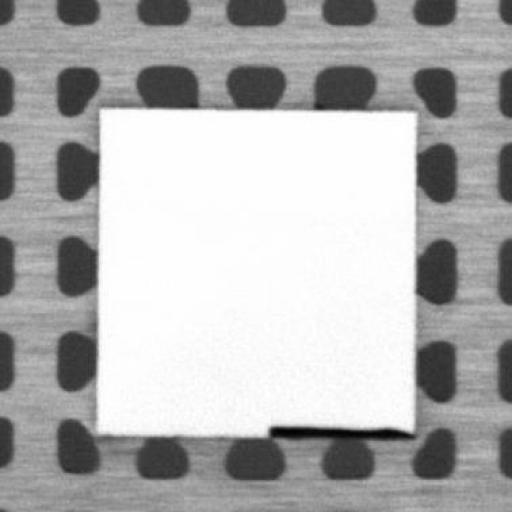DIE_BROKEN: (263, 423, 414, 438)
